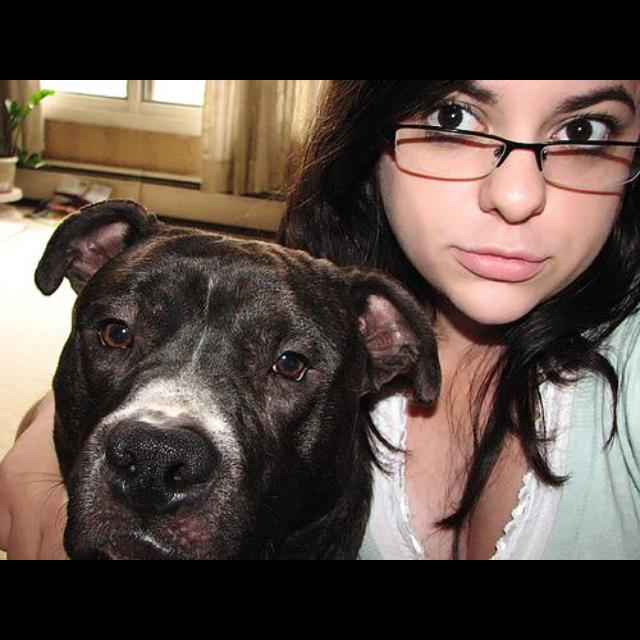amstaff: (34, 198, 443, 560)
face: (377, 81, 640, 325)
person: (3, 83, 640, 561)
